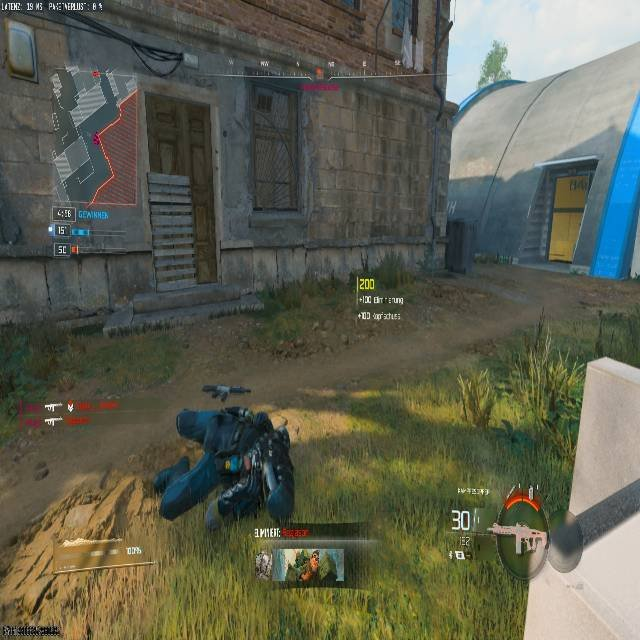head: (176, 408, 222, 446)
player: (153, 394, 295, 529)
